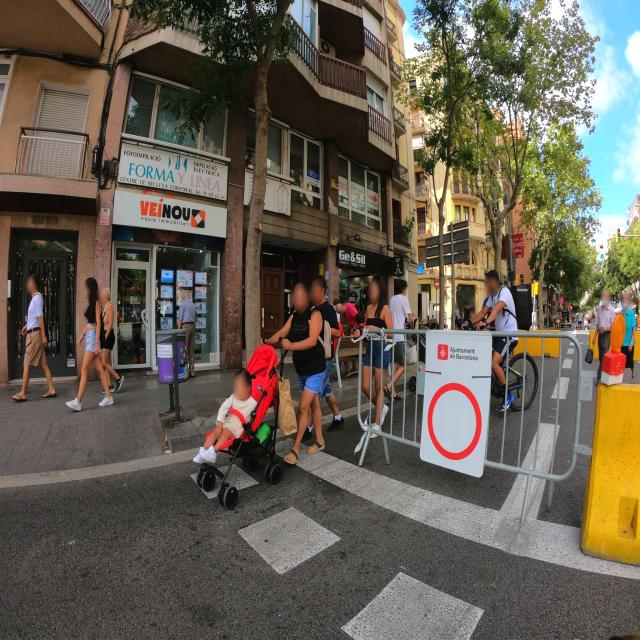bike: (194, 323, 292, 512)
car: (558, 310, 573, 328)
